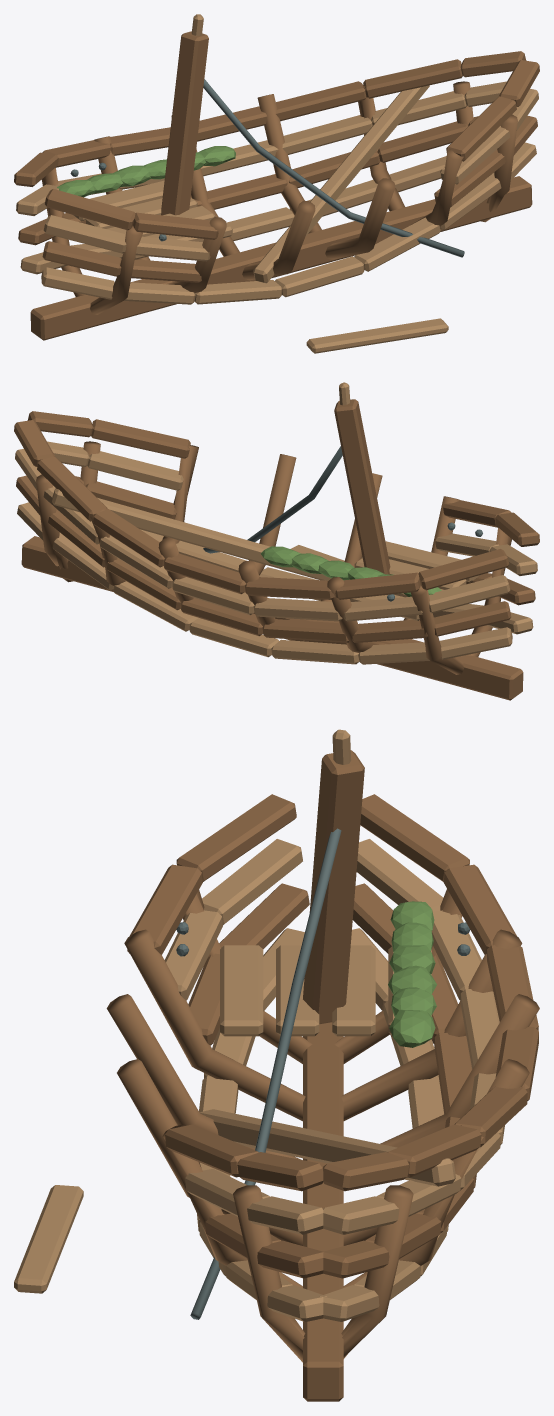
Rendered from little-shipwreck.glb.
3 views of the same model, one above another, from view 1: azimuth 30°, elevation 25°; view 2: azimuth 150°, elevation 25°; view 3: azimuth 270°, elevation 25° (orthographic). The views are drawn at different scales.
Visible parts, largest first — view 1: Keel, Snapped mast, Fallen spar, Exposed curved rib.003, Exposed curved rib.002, Loose timber, Trailing rope, Exposed curved rib.004, Hull plank.045, Exposed curved rib, Hull plank.044, Hull plank.015 (+45 smaller); view 2: Keel, Snapped mast, Fallen spar, Exposed curved rib.003, Hull plank.017, Exposed curved rib, Hull plank.013, Hull plank.040, Hull plank.045, Exposed curved rib.005, Hull plank.044, Hull plank.043 (+43 smaller); view 3: Exposed curved rib.001, Snapped mast, Keel, Exposed curved rib.002, Exposed curved rib.005, Fallen spar, Trailing rope, Exposed curved rib.003, Hull plank.015, Surviving deck plank, Loose timber, Hull plank.040 (+47 smaller).
Part boxes in pixels (box(x1,y1,x2,y2)): Keel: box(30, 176, 532, 340); Snapped mast: box(161, 31, 208, 215); Fallen spar: box(253, 85, 429, 283); Exposed curved rib.003: box(257, 94, 395, 259); Exposed curved rib.002: box(171, 115, 315, 280); Loose timber: box(306, 318, 448, 353); Trailing rope: box(203, 79, 464, 257); Exposed curved rib.004: box(358, 85, 463, 225); Hull plank.045: box(363, 59, 462, 98); Exposed curved rib: box(41, 168, 143, 314); Hull plank.044: box(275, 81, 366, 121); Hull plank.015: box(45, 189, 135, 230); Keel: box(21, 536, 523, 700); Snapped mast: box(334, 399, 390, 574); Fallen spar: box(52, 488, 331, 580); Exposed curved rib.003: box(158, 454, 296, 602); Hull plank.017: box(91, 419, 190, 458); Exposed curved rib: box(410, 527, 511, 674); Hull plank.013: box(87, 451, 183, 490); Hull plank.040: box(418, 549, 509, 590); Hull plank.045: box(37, 456, 107, 521); Exposed curved rib.005: box(36, 441, 100, 582); Hull plank.044: box(93, 509, 164, 567); Hull plank.043: box(164, 553, 246, 594); Exposed curved rib.001: box(124, 929, 522, 1121); Snapped mast: box(303, 750, 364, 1024); Keel: box(303, 1022, 343, 1401); Exposed curved rib.002: box(106, 994, 539, 1159); Exposed curved rib.005: box(233, 1185, 413, 1362); Fallen spar: box(199, 1109, 455, 1186); Trailing rope: box(190, 828, 341, 1319); Exposed curved rib.003: box(117, 1059, 529, 1245); Hull plank.015: box(176, 794, 296, 881); Surviving deck plank: box(220, 945, 263, 1036); Loose timber: box(14, 1185, 83, 1293); Hull plank.040: box(360, 794, 469, 881).
Bounding box in the file's own units: 3.63 × 1.93 × 2.06.
